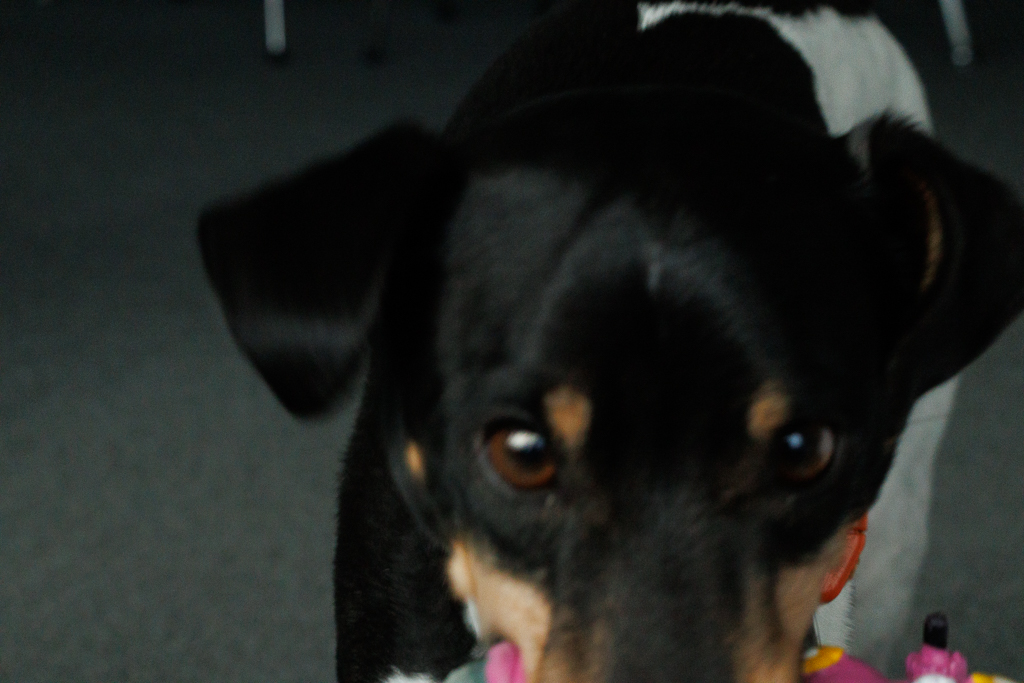Dog: (186, 0, 1024, 683)
Humanoid: (354, 586, 1024, 683)
